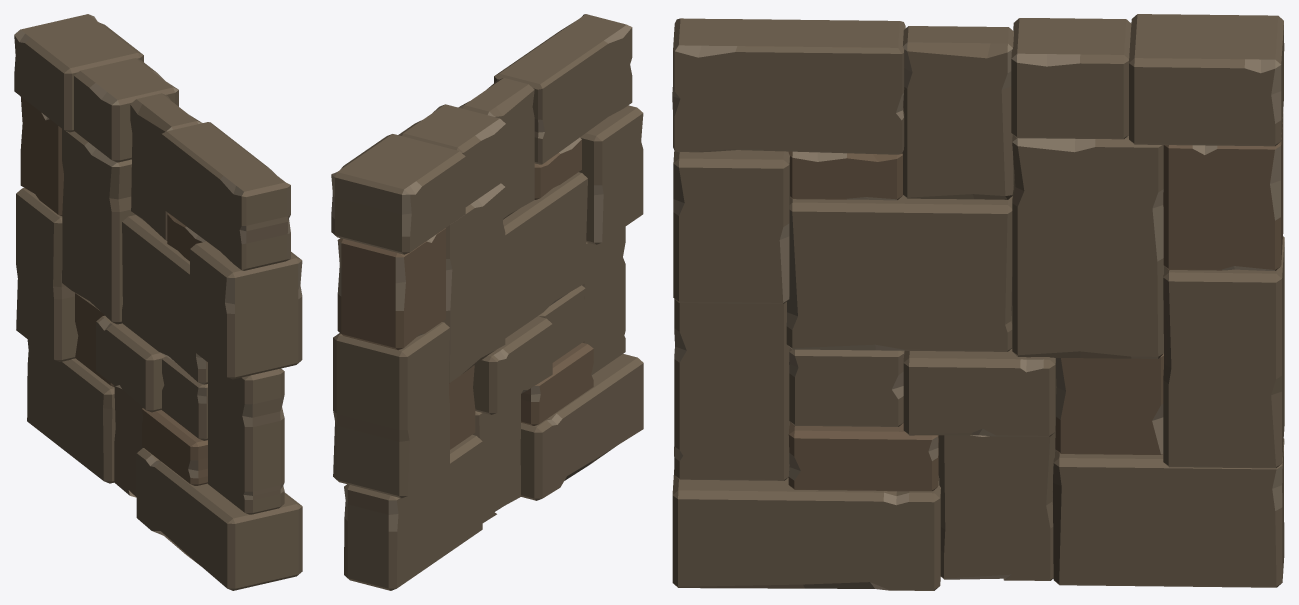
File: final_wall_east_2_lev3.glb
The picture shows the model from 3 angles, left to right: view 1: azimuth 30°, elevation 25°; view 2: azimuth 150°, elevation 25°; view 3: azimuth 270°, elevation 25°; orthographic projection. The views are drawn at different scales.
Parts seen in each view (by area): view 1: final_wall_east_2_lev3; view 2: final_wall_east_2_lev3; view 3: final_wall_east_2_lev3.
Part boxes in pixels (x1,y1,x2,y2): final_wall_east_2_lev3: (14, 14, 302, 590); final_wall_east_2_lev3: (331, 14, 643, 590); final_wall_east_2_lev3: (672, 14, 1284, 590).
Size of the model in its own units: 1.36 by 5.95 by 6.15.
